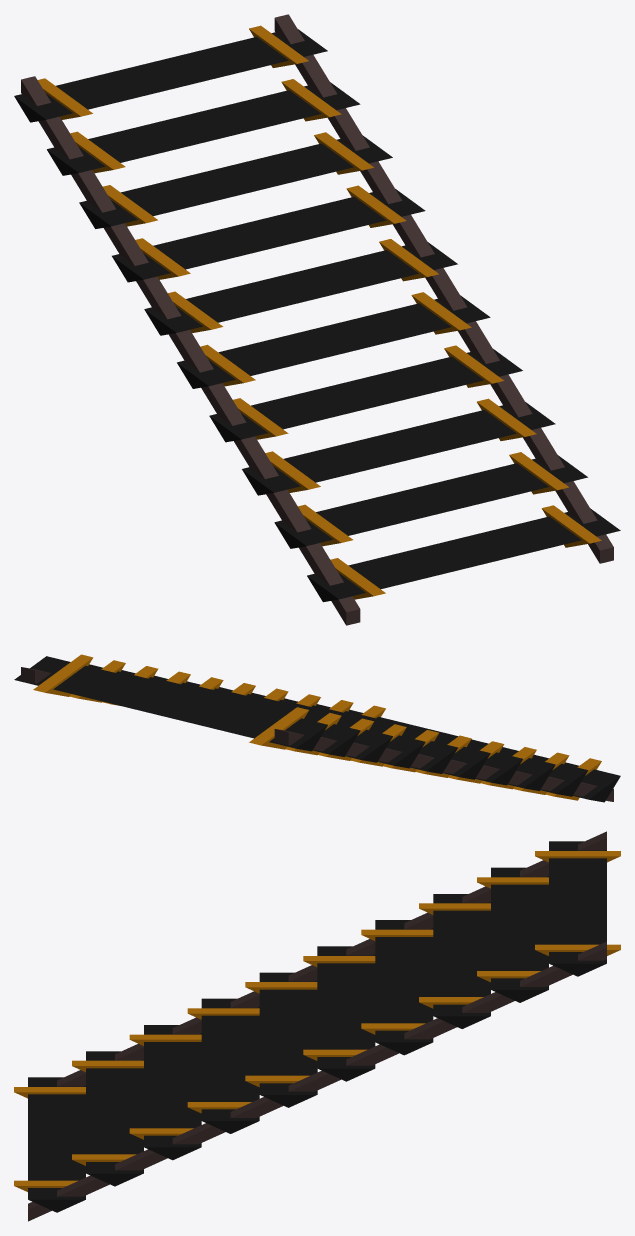
Rendered from Staircase.fbx.
3 renders of one model, top to bottom at view 1: azimuth 30°, elevation 25°; view 2: azimuth 150°, elevation 25°; view 3: azimuth 270°, elevation 25°, orthographic. The views are drawn at different scales.
Parts seen in each view (by area): view 1: Staircase; view 2: Staircase; view 3: Staircase.
Part boxes in pixels (x1,y1,x2,y2): Staircase: (14, 14, 620, 625); Staircase: (14, 654, 620, 802); Staircase: (14, 831, 620, 1221).
Bounding box in the file's own units: 200 × 209 × 420.
